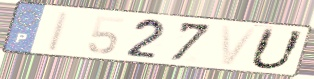2: (122, 16, 170, 63)
5: (86, 14, 127, 55)
7: (167, 21, 215, 63)
I: (44, 9, 73, 53)
U: (247, 26, 308, 71)
V: (219, 24, 261, 67)
